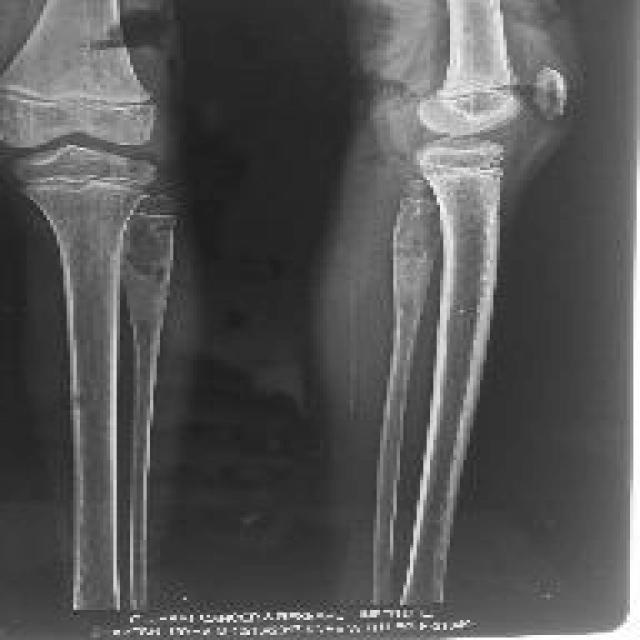bone-cancer: (113, 212, 180, 328), (393, 179, 440, 290)
